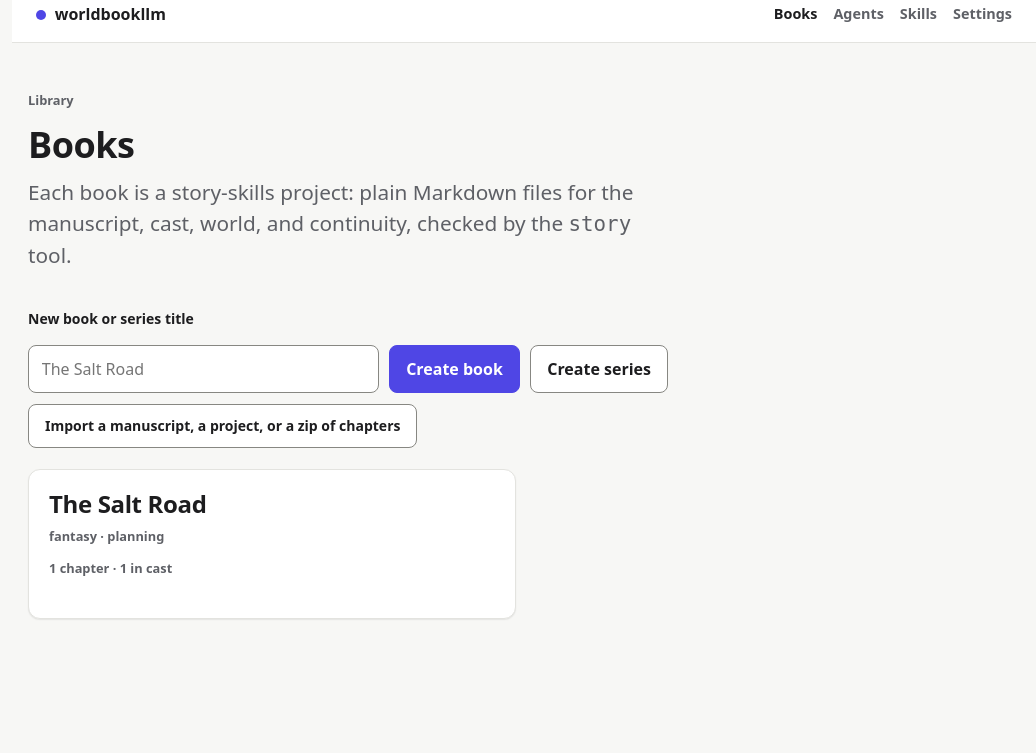
book library › lists books and creates a new one
The image size is (1036, 753).
Expected: the link "The Salt Road" is shown, [49,487,206,520]
Expected: the text "1 chapter · 1 in cast" is shown, [49,559,172,577]
Step 1. Type "Embers" into the field labelled "New book or series title" → (203, 369), box [28,345,379,393]
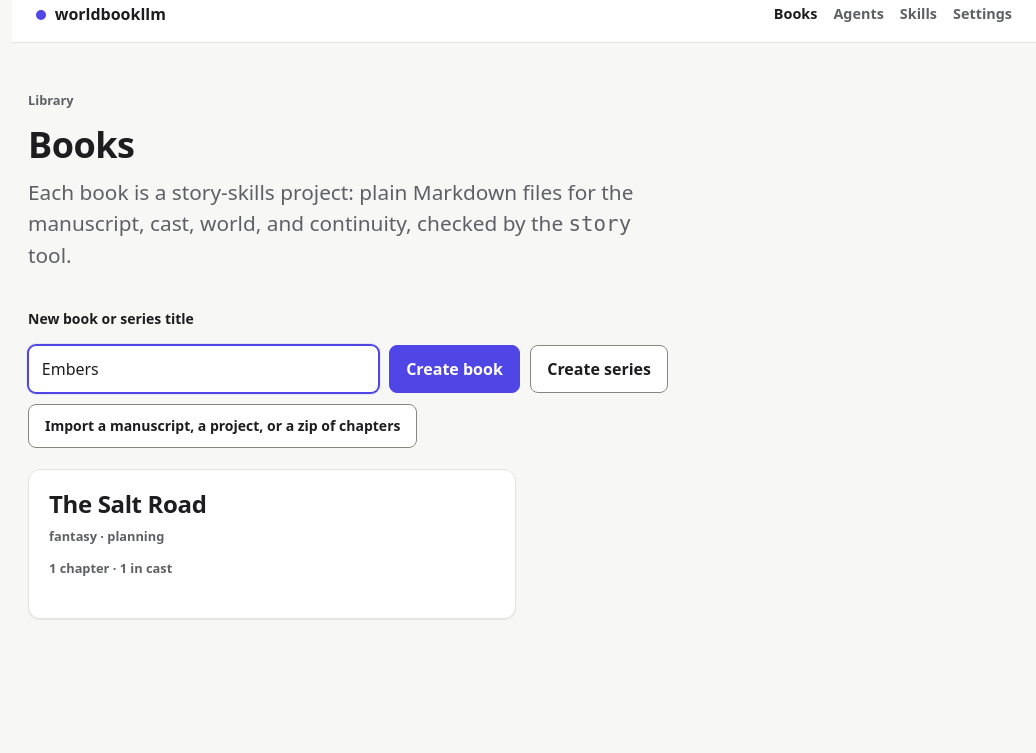
Step 2. Click the button "Create book" → (454, 369), box [389,345,520,393]
(page scrolled)
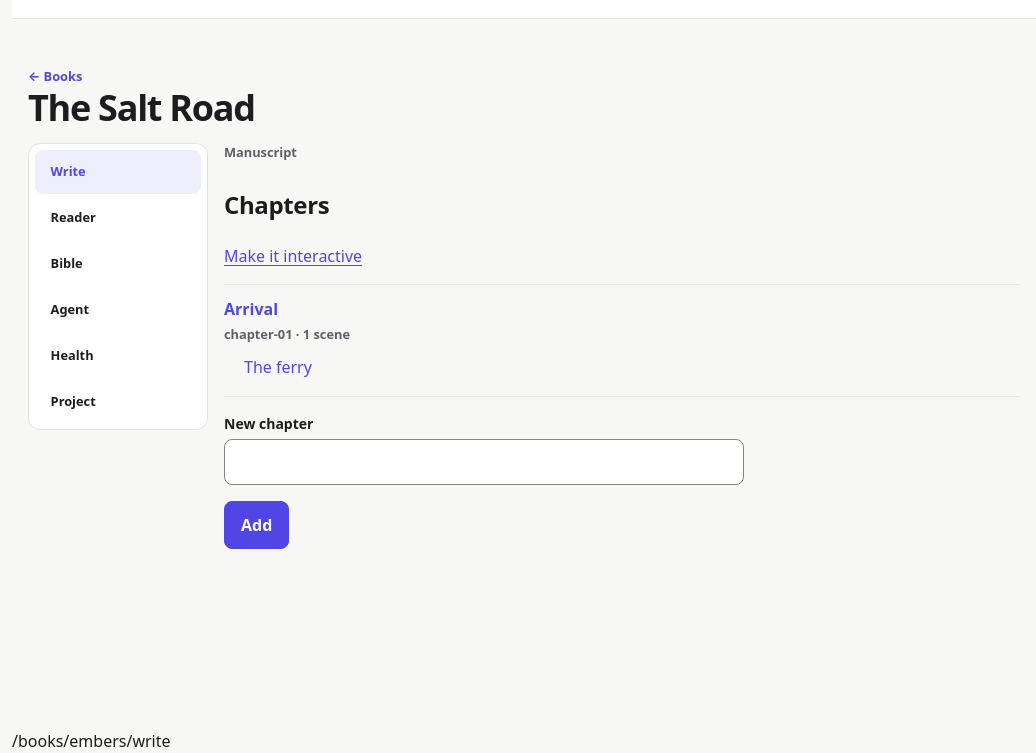
Now the text with test id "location" reads "/books/embers/write", box [12,730,170,752]
